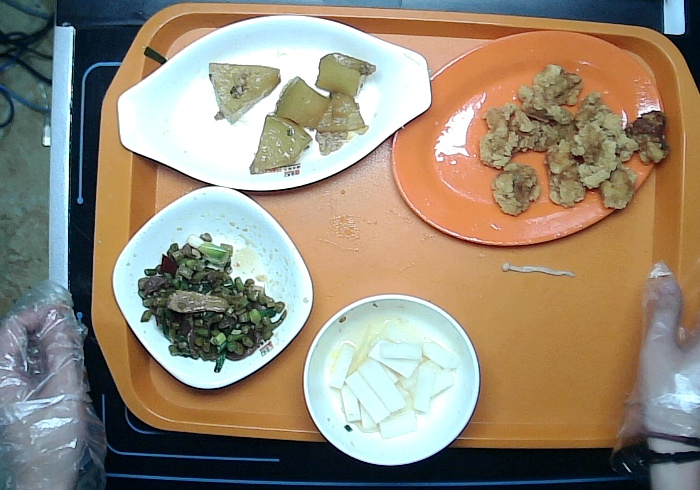NLDX-Bai_Se_Xiao_Fang_Die: (111, 186, 313, 388)
NLDX-Fan_Wan: (303, 293, 480, 465)
NLDX-Ju_Se_Pan: (391, 31, 665, 246)
NLDX-Yu_Pan: (117, 15, 432, 189)
